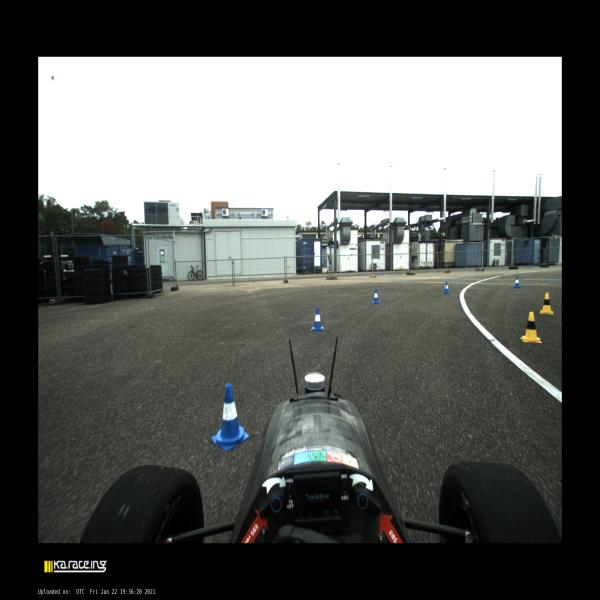blue_cone: (211, 384, 249, 450), (311, 307, 325, 332), (372, 288, 381, 304), (513, 276, 521, 288), (443, 281, 450, 294)
yellow_cone: (520, 312, 542, 343), (540, 292, 554, 315)
